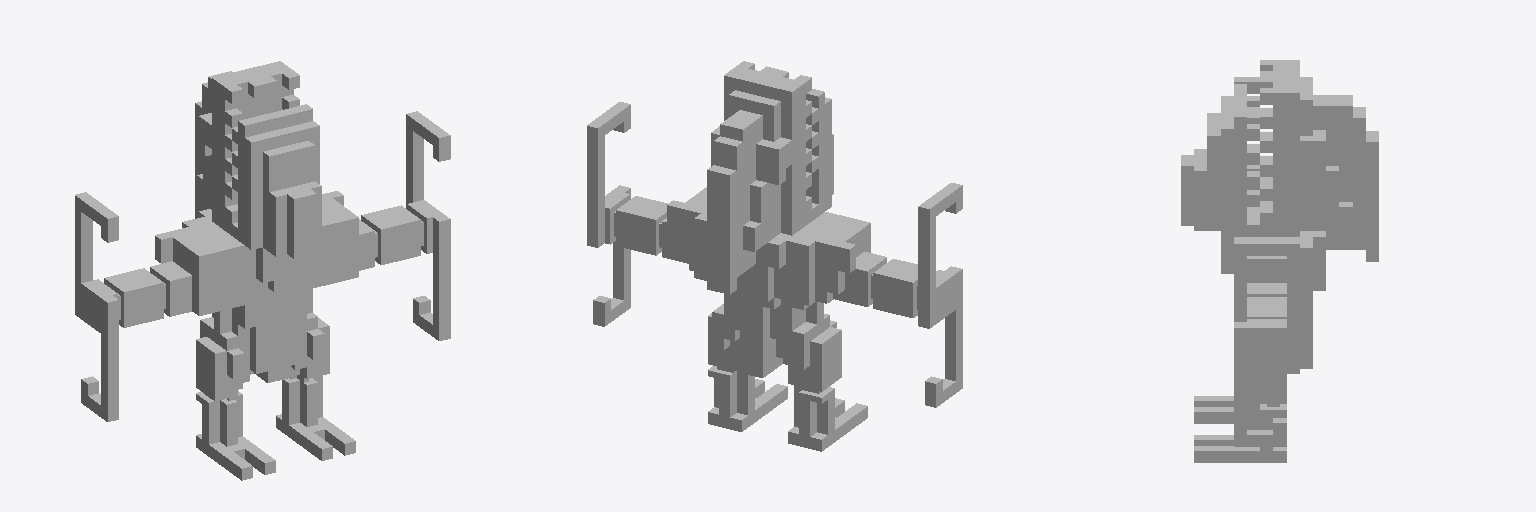
File: Shark.obj
3 views of the same model, side by side, from view 1: azimuth 30°, elevation 25°; view 2: azimuth 150°, elevation 25°; view 3: azimuth 270°, elevation 25° (orthographic).
Parts seen in each view (by area): view 1: object 1; view 2: object 1; view 3: object 1.
Part boxes in pixels (left/top/right/bottom): object 1: left=75, top=61, right=450, bottom=480; object 1: left=587, top=61, right=962, bottom=451; object 1: left=1181, top=60, right=1378, bottom=462.
Size of the model in its own units: 6 by 6 by 3.